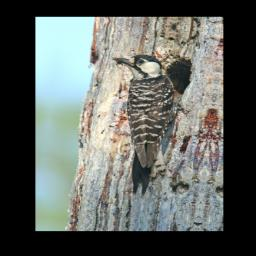Woodpecker: (93, 51, 198, 203)
